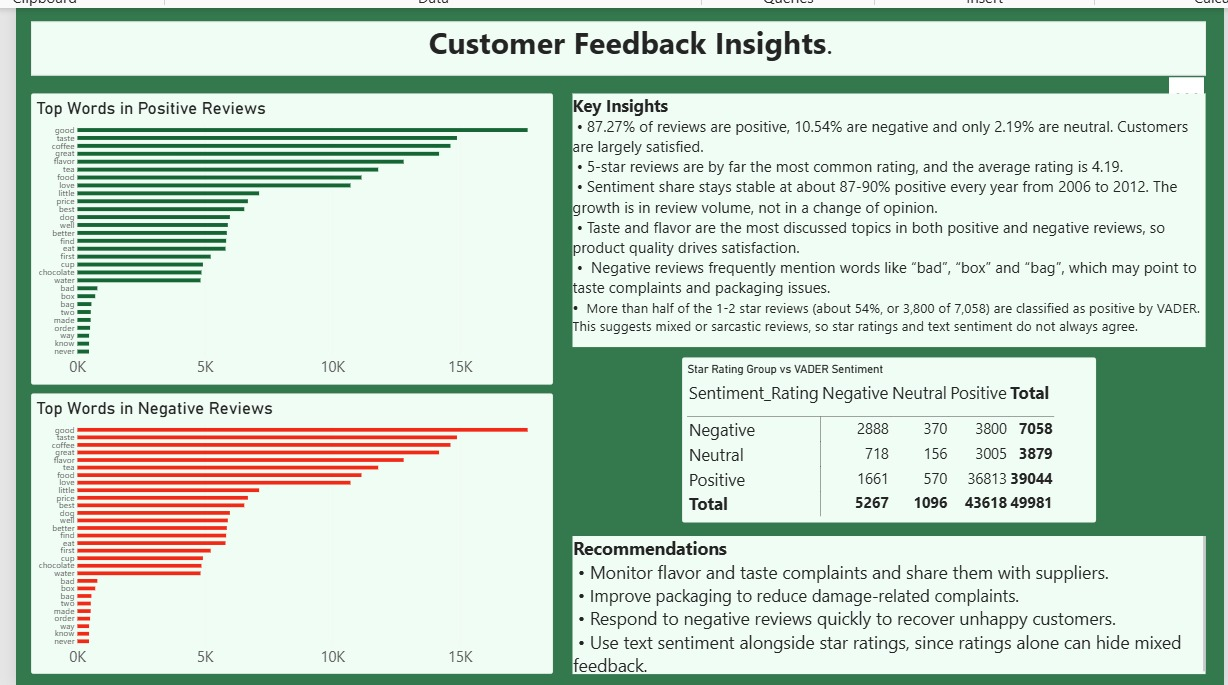

The page's visual inventory and layout, read from the dashboard file:
{"tool":"powerbi","page":{"name":"Insights","canvas":[3840,2160],"ordinal":2},"visuals":[{"type":"textbox","box":[10,0,280,280],"z":0},{"type":"textbox","box":[47.7,42.9,3736.3,171.8],"z":1},{"type":"clusteredBarChart","title":"Top Words in Positive Reviews","fields":{"Category":["Top_words.Word"],"Y":["Sum(Top_words.Count)"]},"box":[47.7,272,1660.6,925.7],"z":2},{"type":"pivotTable","title":"Star Rating Group vs VADER Sentiment","fields":{"Columns":["Reviews.Sentiment_VADER"],"Rows":["Reviews.Sentiment_Rating"],"Values":["Reviews.Total Reviews"]},"box":[2118.7,1111.8,1317,524.9],"z":4},{"type":"textbox","box":[48,1942,1436,218],"z":5},{"type":"textbox","box":[1770.4,272,2013.7,806.4],"z":6},{"type":"textbox","box":[1770.4,1679.7,2013.7,439],"z":7},{"type":"clusteredBarChart","title":"Top Words in Negative Reviews","fields":{"Category":["Top_words.Word"],"Y":["Sum(Top_words.Count)"]},"box":[47.7,1226.4,1660.6,892.3],"z":8}]}

Visuals, with their boxes in screenshot pixels (x1, y1, x2, y2):
textbox: rect(19, 6, 107, 94)
textbox: rect(31, 20, 1198, 73)
"Top Words in Positive Reviews" clusteredBarChart: rect(31, 91, 550, 381)
"Star Rating Group vs VADER Sentiment" pivotTable: rect(678, 354, 1089, 518)
textbox: rect(31, 613, 480, 681)
textbox: rect(569, 91, 1198, 343)
textbox: rect(569, 531, 1198, 668)
"Top Words in Negative Reviews" clusteredBarChart: rect(31, 390, 550, 668)
